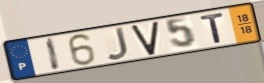5: (162, 15, 199, 51)
6: (67, 32, 98, 67)
I: (45, 36, 63, 72)
J: (105, 26, 131, 62)
T: (199, 11, 226, 45)
V: (130, 19, 161, 57)
